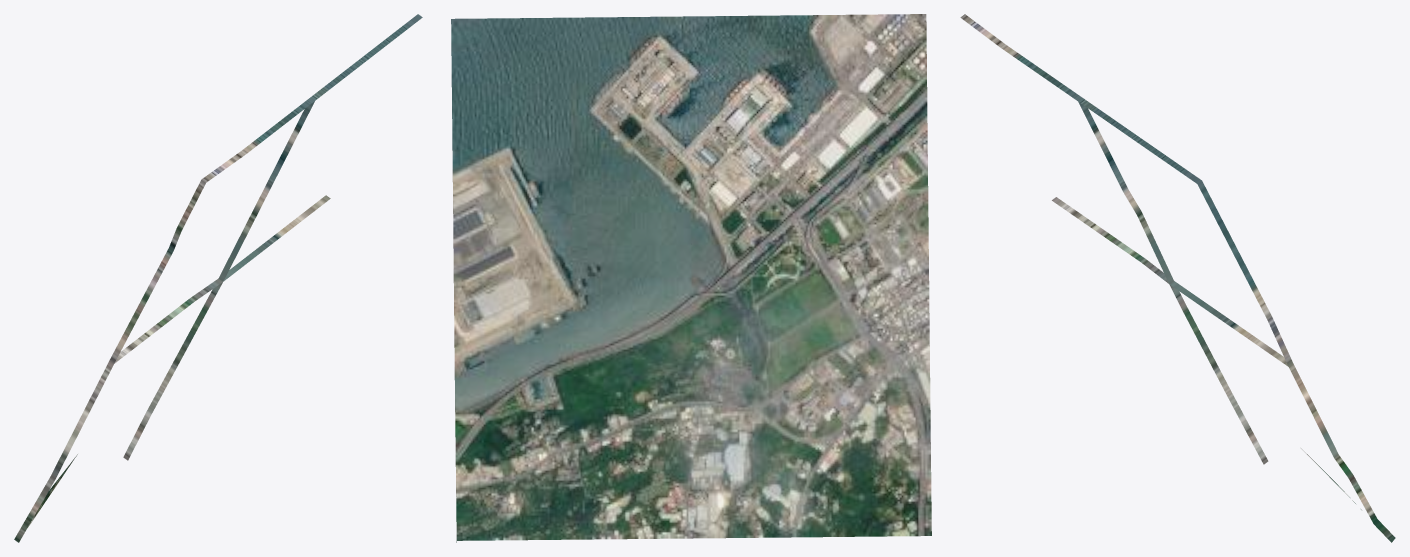
3 views of the same model, side by side, from view 1: azimuth 30°, elevation 25°; view 2: azimuth 150°, elevation 25°; view 3: azimuth 270°, elevation 25° (orthographic). The views are drawn at different scales.
Size of the model in its own units: 2460 by 2218 by 2107.
Materials: 1 (1 with a texture image).
